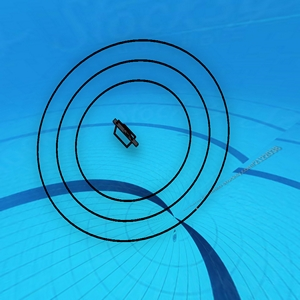circle: (30, 34, 245, 242)
submarine: (111, 115, 139, 150)
